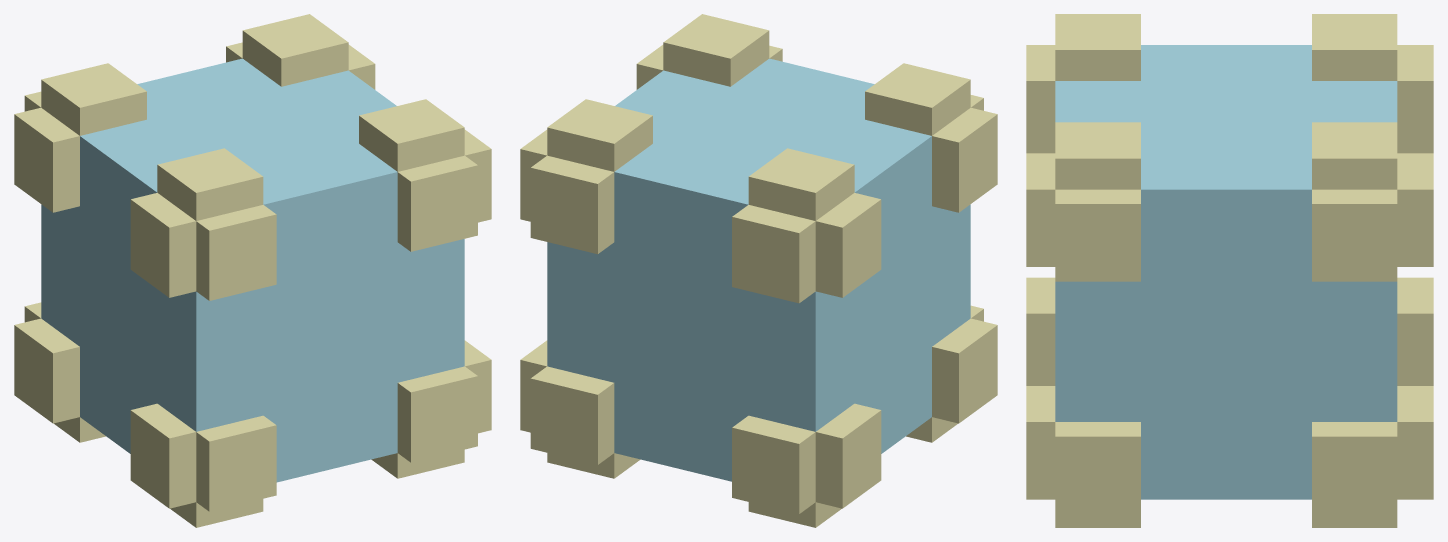
File: diceFBX.fbx
The picture shows the model from 3 angles, left to right: view 1: azimuth 30°, elevation 25°; view 2: azimuth 150°, elevation 25°; view 3: azimuth 270°, elevation 25°; orthographic projection. The views are drawn at different scales.
Parts seen in each view (by area): view 1: playerDice; view 2: playerDice; view 3: playerDice.
Boxes of the visible parts, bbox=[...] form: playerDice: bbox=[14, 14, 491, 527]; playerDice: bbox=[520, 14, 997, 527]; playerDice: bbox=[1026, 14, 1433, 527].
Bounding box in the file's own units: 240 × 238 × 238.
